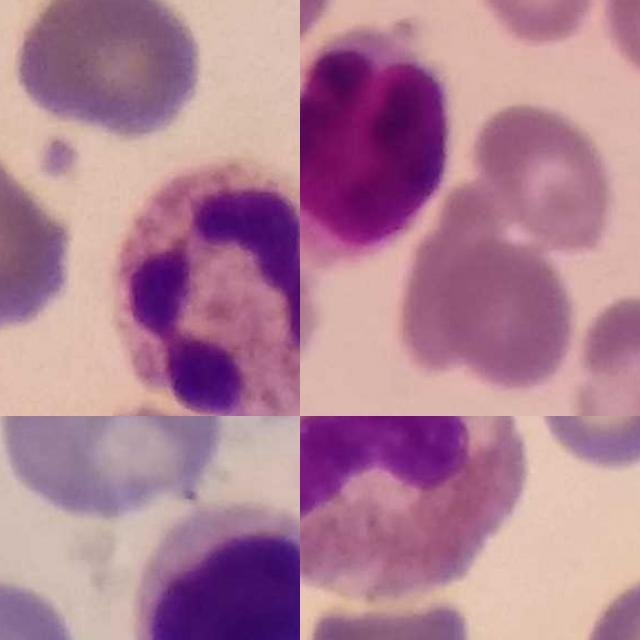Lymphocyte: (300, 23, 453, 274), (129, 499, 300, 640)
Monocyte: (300, 416, 528, 602)
Neutrophil: (109, 158, 300, 416)
